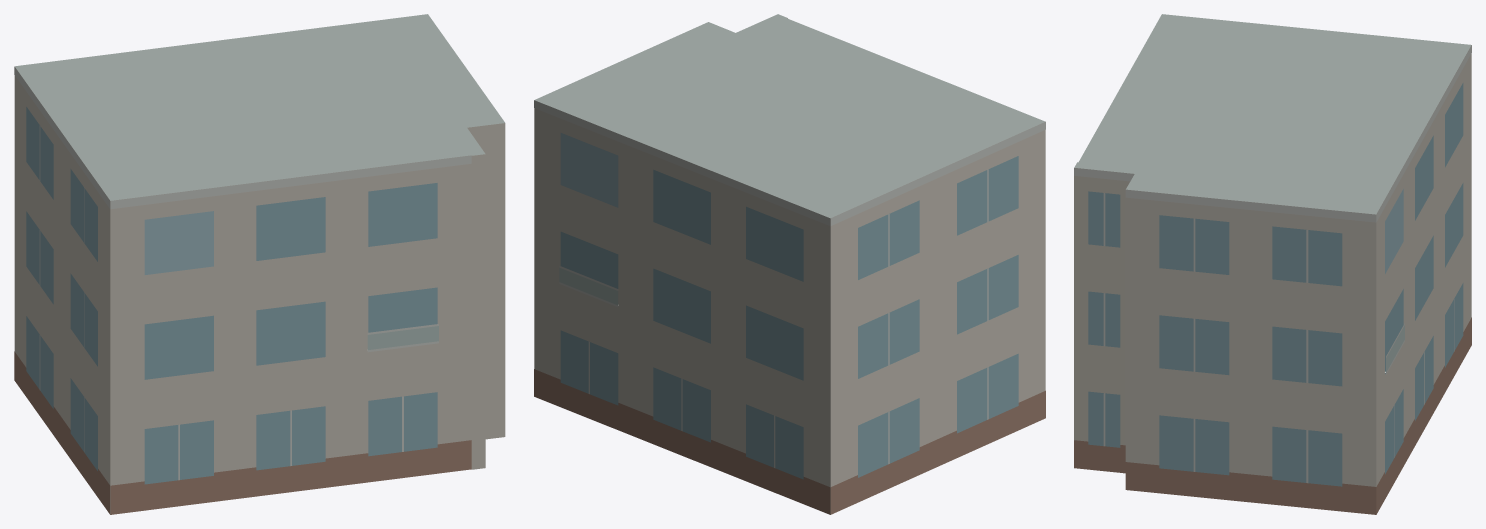
File: survey-upis-32969478.glb
3 renders of one model, left to right at view 1: azimuth 30°, elevation 25°; view 2: azimuth 150°, elevation 25°; view 3: azimuth 270°, elevation 25°, orthographic. The views are drawn at different scales.
Visible parts, largest first — view 1: survey-upis-32969478.tmp; view 2: survey-upis-32969478.tmp; view 3: survey-upis-32969478.tmp.
Part boxes in pixels (x1,y1,x2,y2): survey-upis-32969478.tmp: (14, 14, 505, 514); survey-upis-32969478.tmp: (534, 14, 1045, 514); survey-upis-32969478.tmp: (1074, 14, 1471, 514).
Size of the model in its own units: 13.04 by 9.1 by 10.92.
